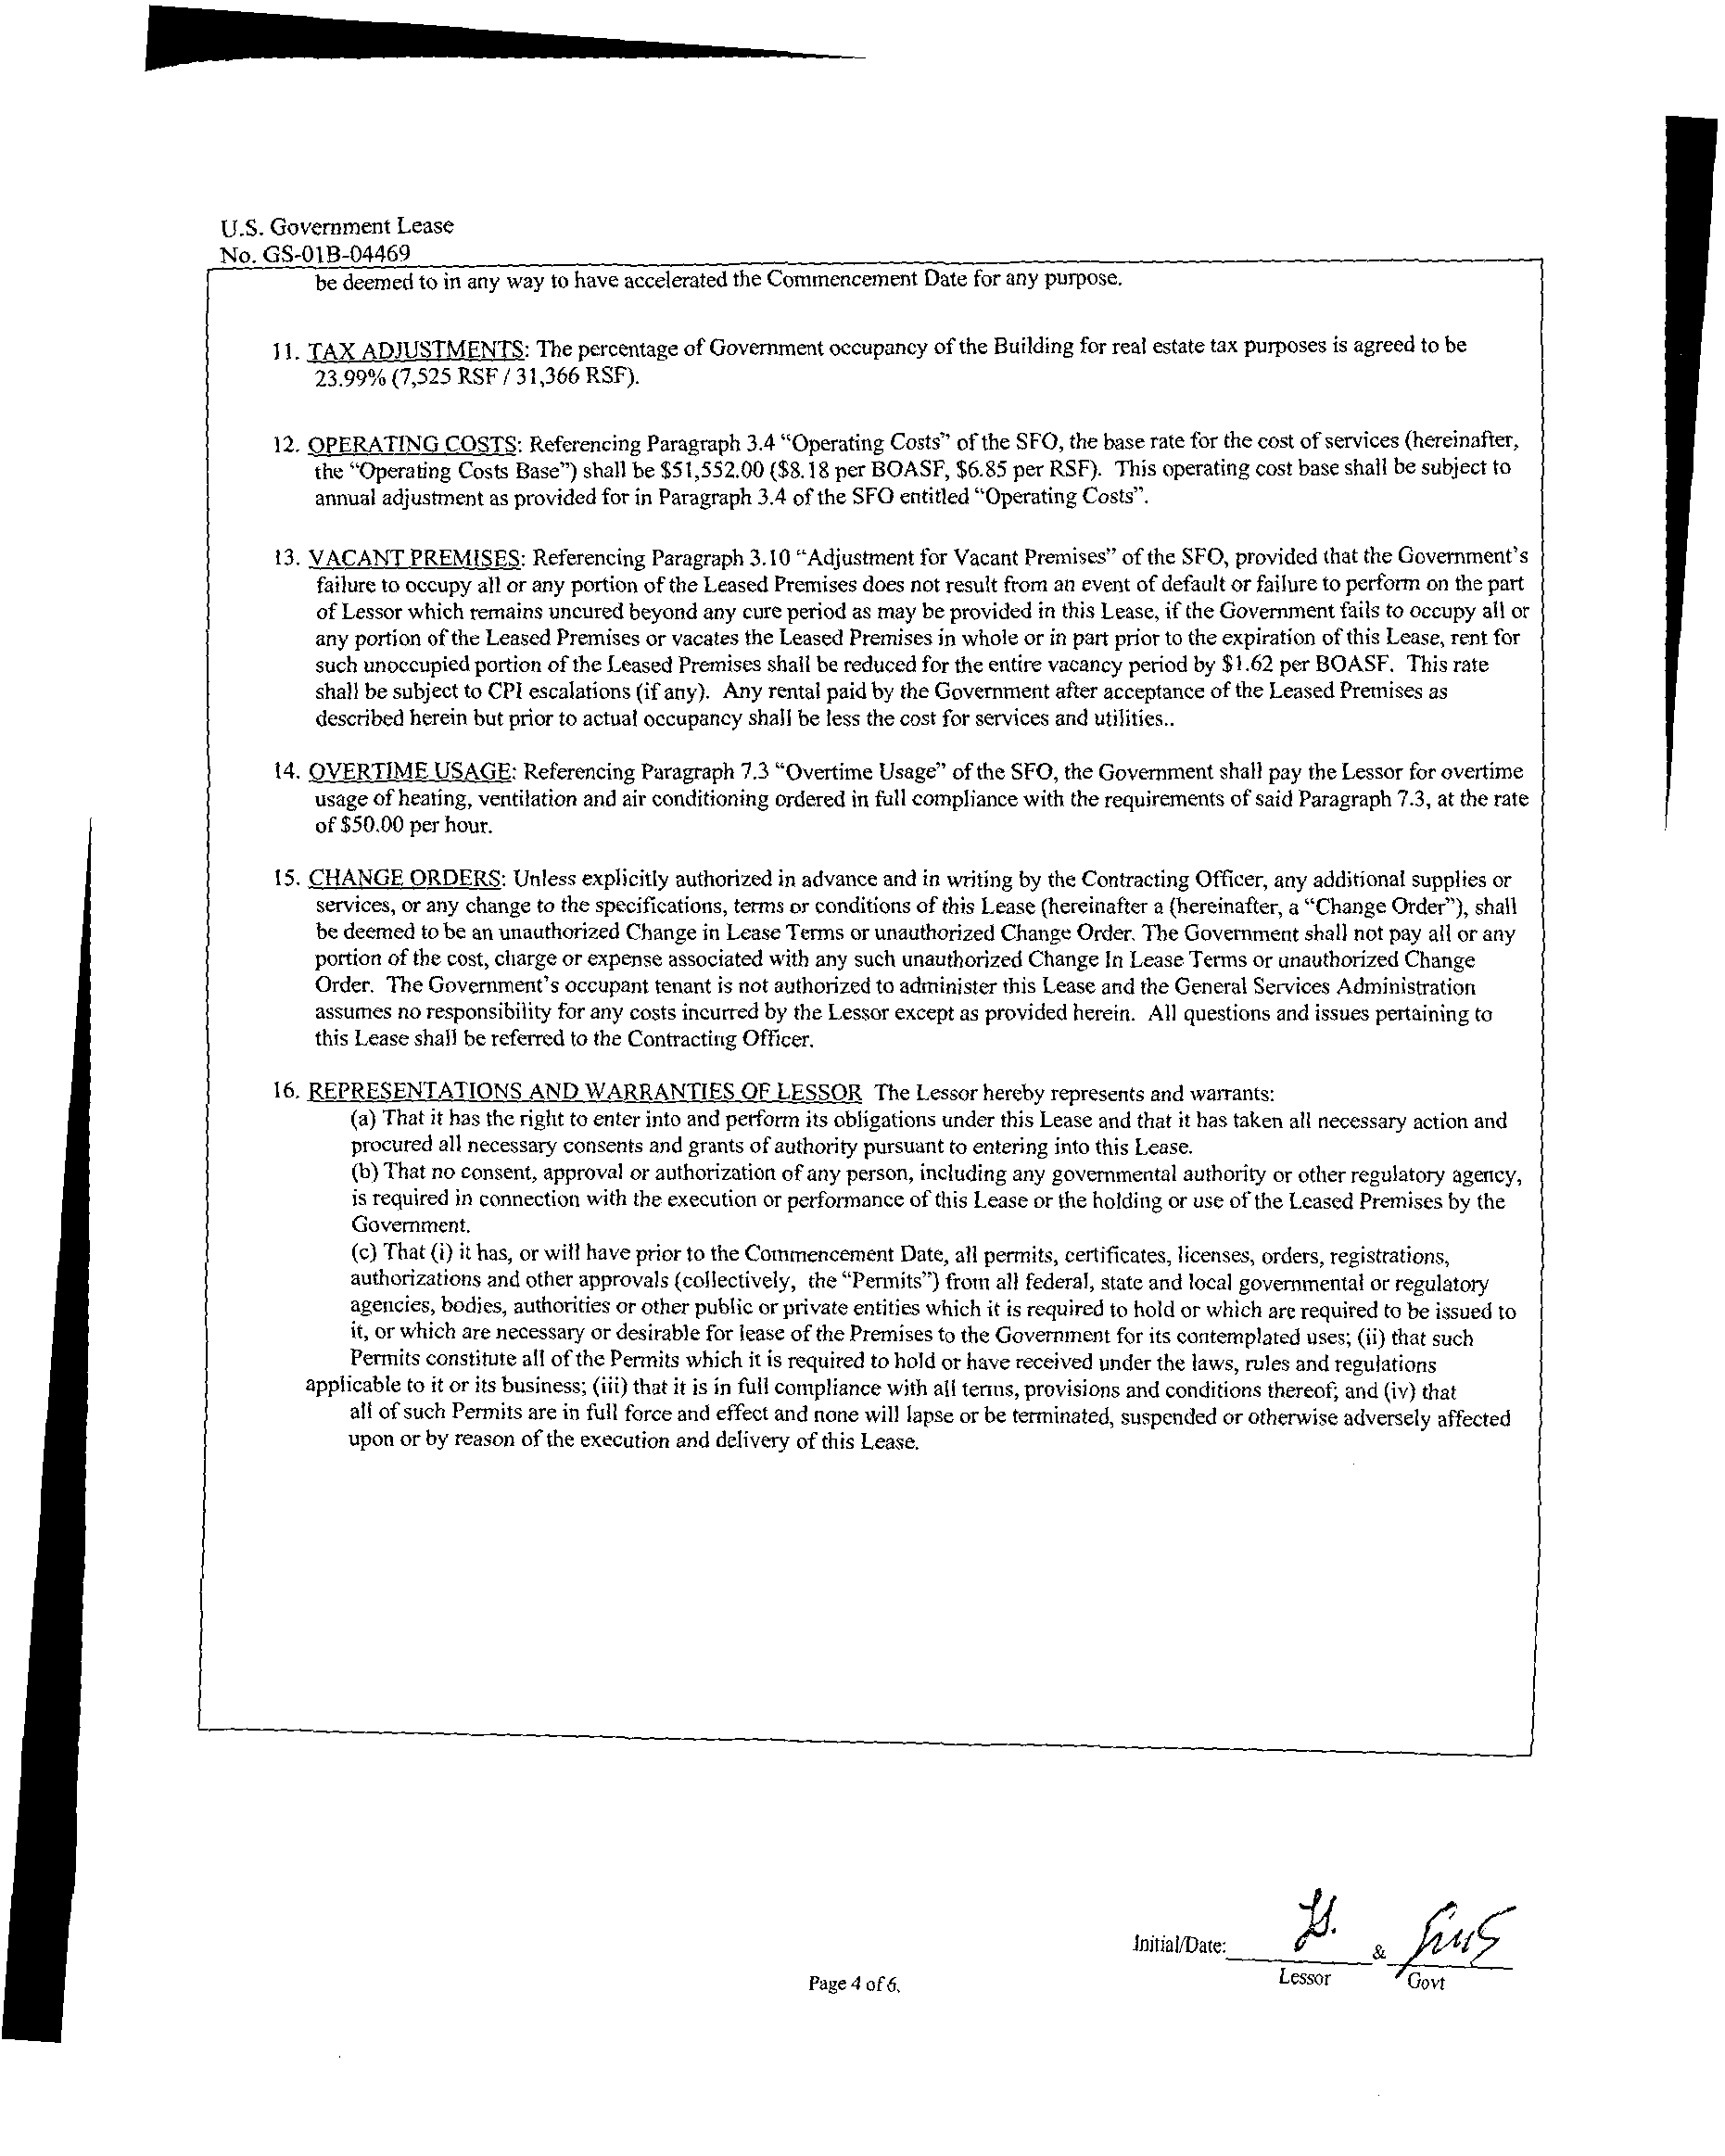handwritten: (1403, 1881, 1531, 1968), (1283, 1878, 1347, 1955)
